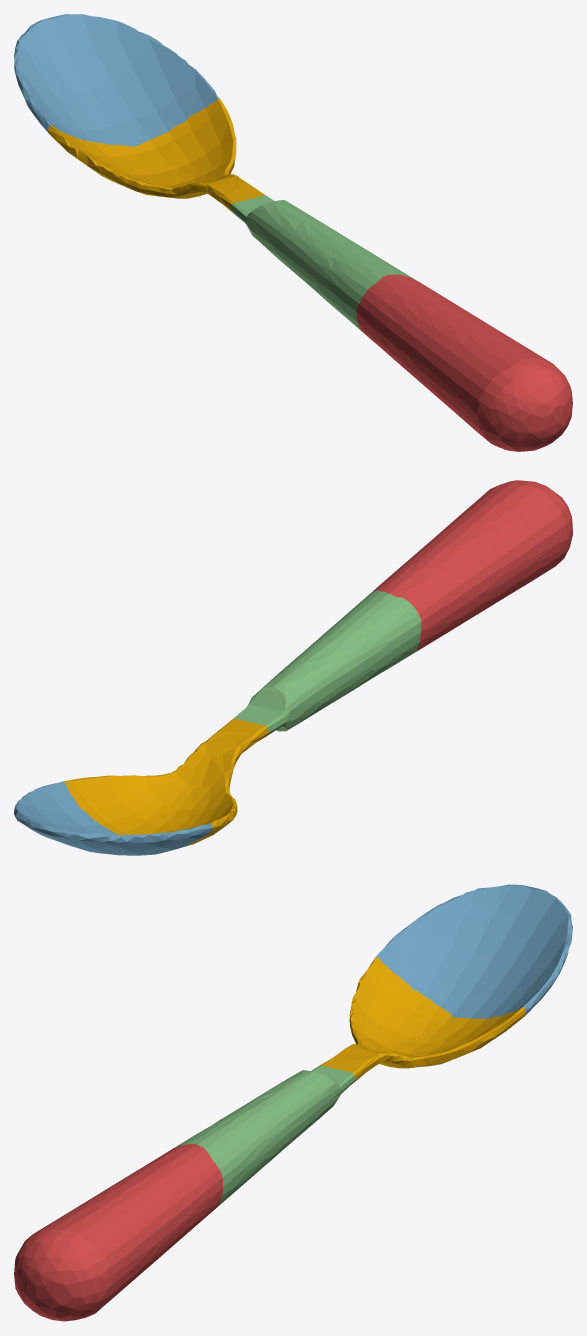
The model's file is mode_3_4pcs.glb.
3 renders of one model, top to bottom at view 1: azimuth 30°, elevation 25°; view 2: azimuth 150°, elevation 25°; view 3: azimuth 330°, elevation 25°, orthographic.
Parts seen in each view (by area): view 1: piece_1.obj, piece_2.obj, piece_0.obj, piece_3.obj; view 2: piece_1.obj, piece_3.obj, piece_0.obj, piece_2.obj; view 3: piece_1.obj, piece_2.obj, piece_0.obj, piece_3.obj.
Boxes of the visible parts, box(x1,y1,x2,y2) form: piece_1.obj: box(356, 274, 572, 451); piece_2.obj: box(14, 14, 219, 146); piece_0.obj: box(48, 99, 264, 212); piece_3.obj: box(231, 195, 416, 333); piece_1.obj: box(373, 480, 572, 651); piece_3.obj: box(233, 590, 421, 735); piece_0.obj: box(63, 718, 268, 846); piece_2.obj: box(14, 781, 212, 855); piece_1.obj: box(14, 1144, 223, 1321); piece_2.obj: box(375, 884, 572, 1018); piece_0.obj: box(320, 957, 526, 1082); piece_3.obj: box(174, 1065, 355, 1206).
Size of the model in its own units: 0.1912 by 0.0966 by 1.
